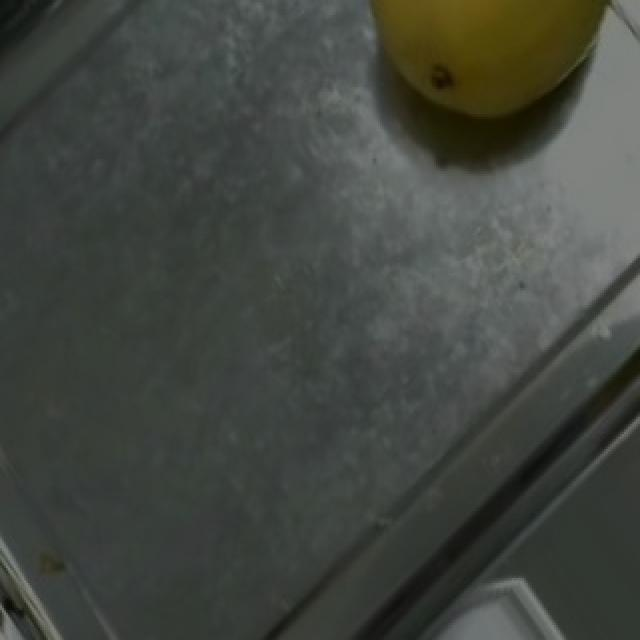fruit: (324, 0, 640, 193)
